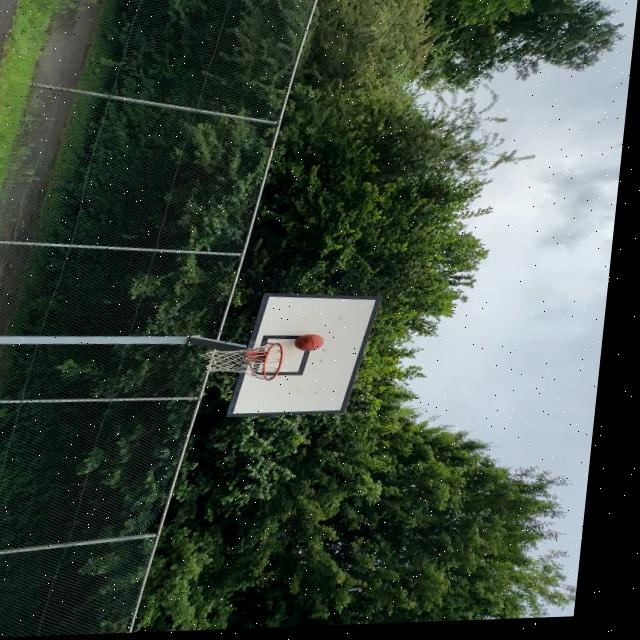rebound_hit: (292, 333, 325, 351)
